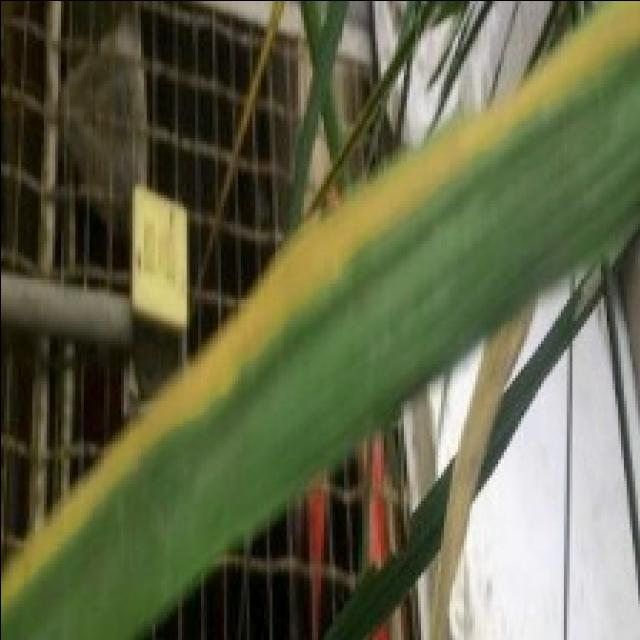Unhealthy: (0, 0, 640, 610), (430, 297, 545, 640)
